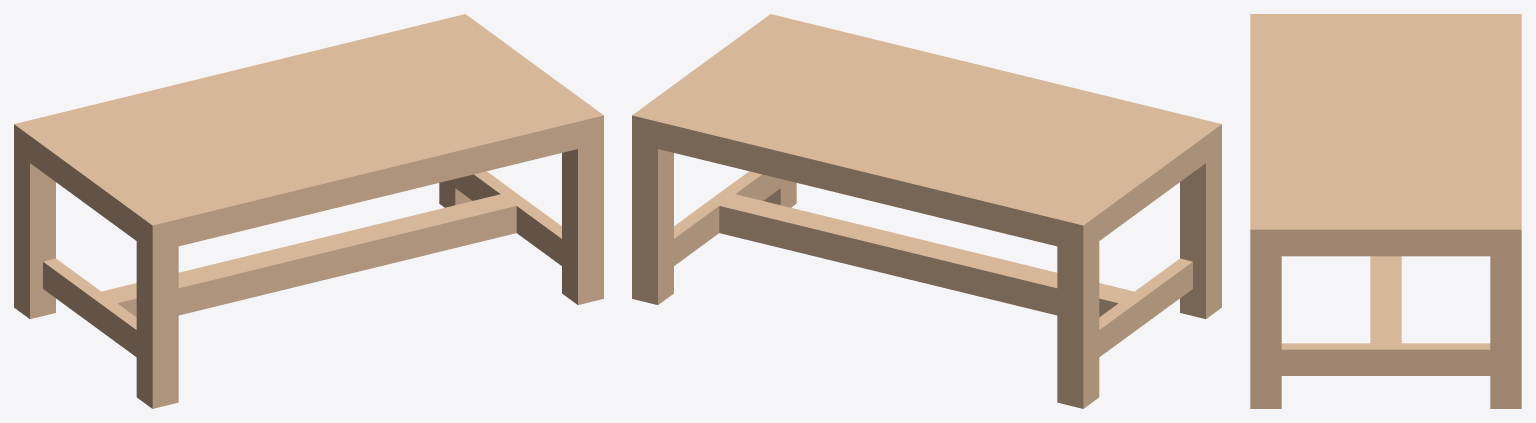
The model's file is table.glb.
3 renders of one model, left to right at view 1: azimuth 30°, elevation 25°; view 2: azimuth 150°, elevation 25°; view 3: azimuth 270°, elevation 25°, orthographic. The views are drawn at different scales.
Visible parts, largest first — view 1: table(Clone); view 2: table(Clone); view 3: table(Clone).
Part boxes in pixels (<box>): table(Clone): <box>14,14,603,408</box>; table(Clone): <box>632,14,1221,408</box>; table(Clone): <box>1250,14,1521,408</box>.
Size of the model in its own units: 0.8415 by 0.3267 by 0.4474.
